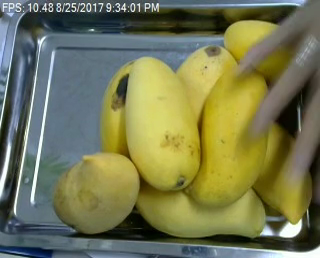Mango: (184, 64, 268, 204), (125, 55, 200, 191), (136, 178, 265, 237), (52, 151, 140, 234), (248, 120, 312, 223), (174, 43, 238, 125), (224, 19, 290, 82), (99, 59, 136, 155)
